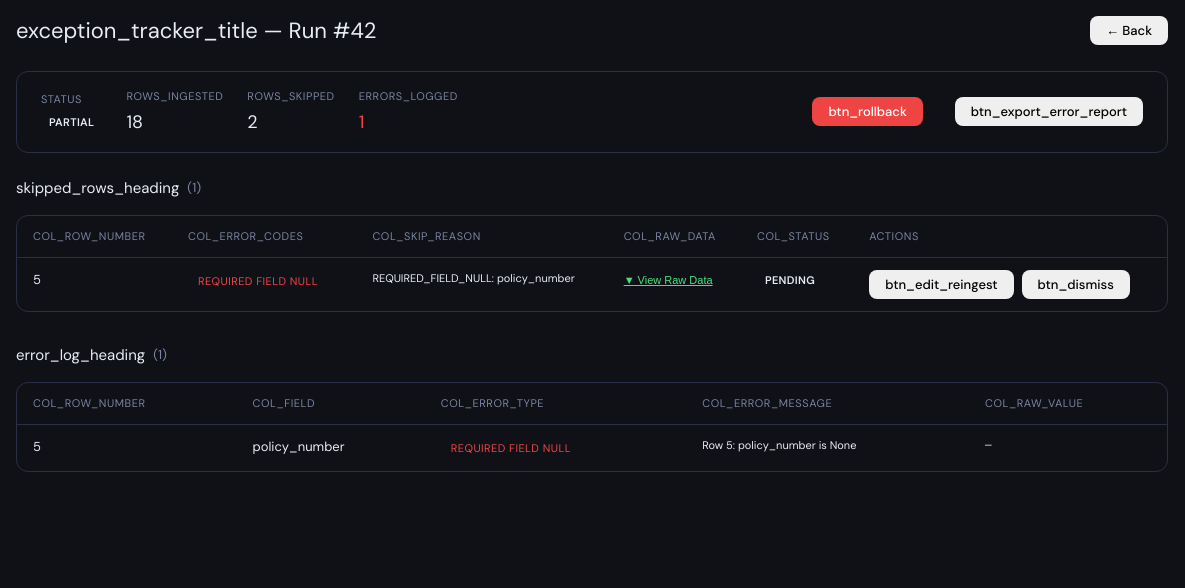
Test case: ExceptionTracker › View Raw Data button expands JSONB inline
Click the button with test id "exception-tracker__view-raw-btn" at (668, 280), box 624,274 -> 713,286
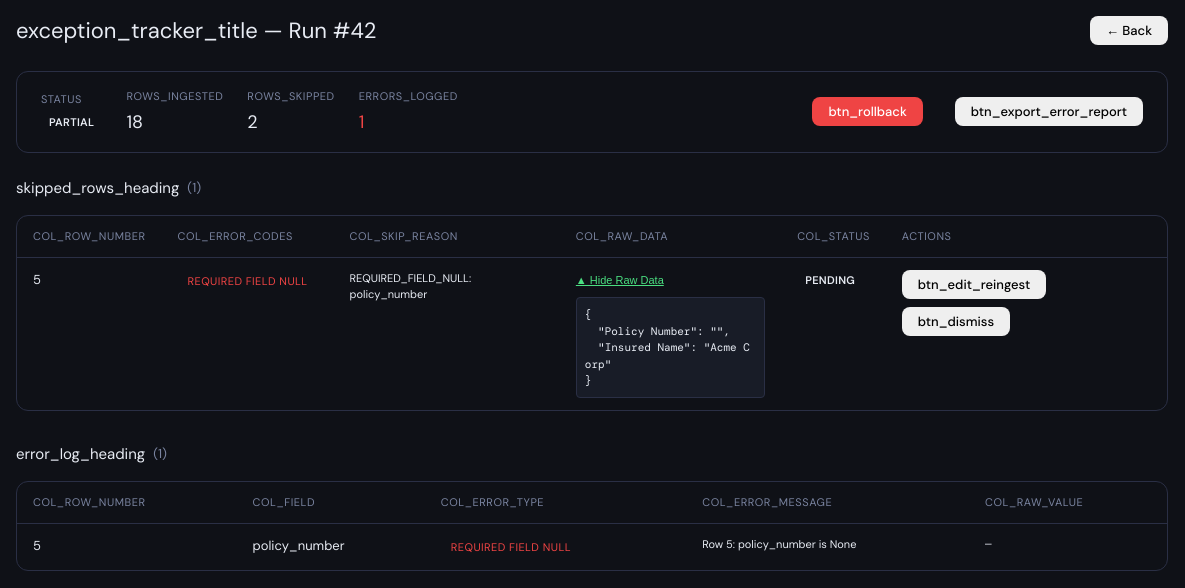
Now the text "{ \"Policy Number\": \"\", \"Insured Name\": \"Acme Corp\" }" is shown, box 576,297 -> 765,398
